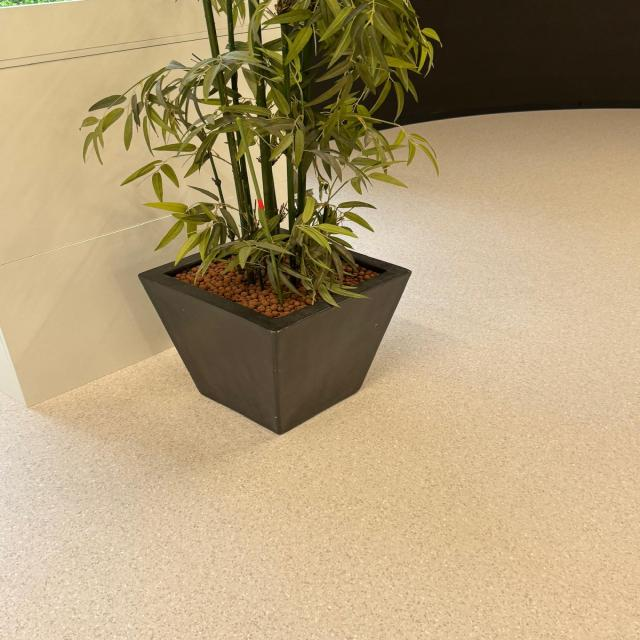Pot: (136, 226, 412, 436)
